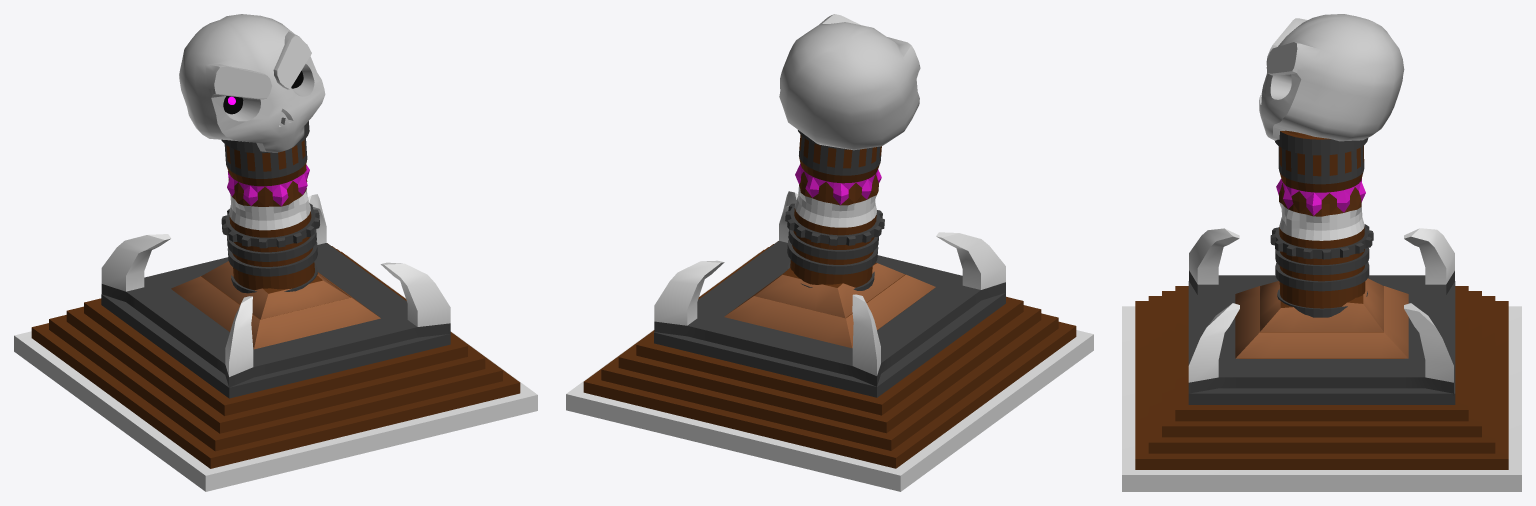
File: NexusTier1DanabaFinal.fbx
3 views of the same model, side by side, from view 1: azimuth 30°, elevation 25°; view 2: azimuth 150°, elevation 25°; view 3: azimuth 270°, elevation 25° (orthographic). The views are drawn at different scales.
Visible parts, largest first — view 1: Nexus; view 2: Nexus; view 3: Nexus.
Boxes of the visible parts, left/top/right/bottom form: Nexus: left=14, top=14, right=537, bottom=491; Nexus: left=566, top=14, right=1093, bottom=491; Nexus: left=1122, top=14, right=1521, bottom=491.
Size of the model in its own units: 753 by 779 by 753.
